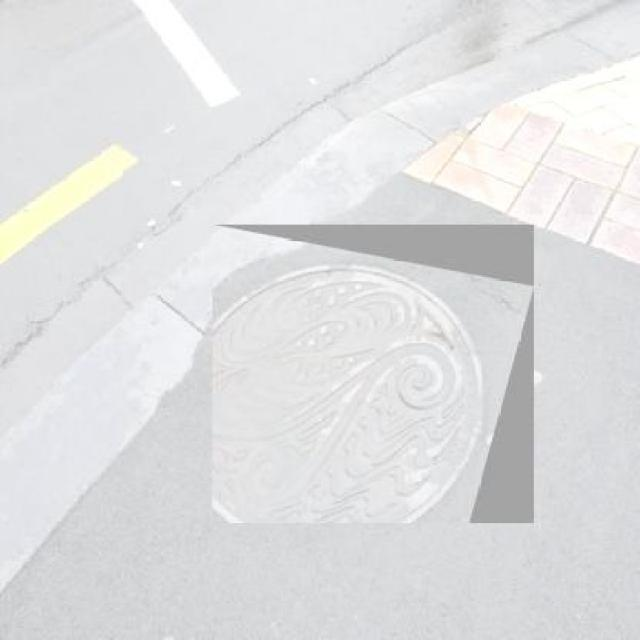Manhole: (212, 224, 534, 524)
